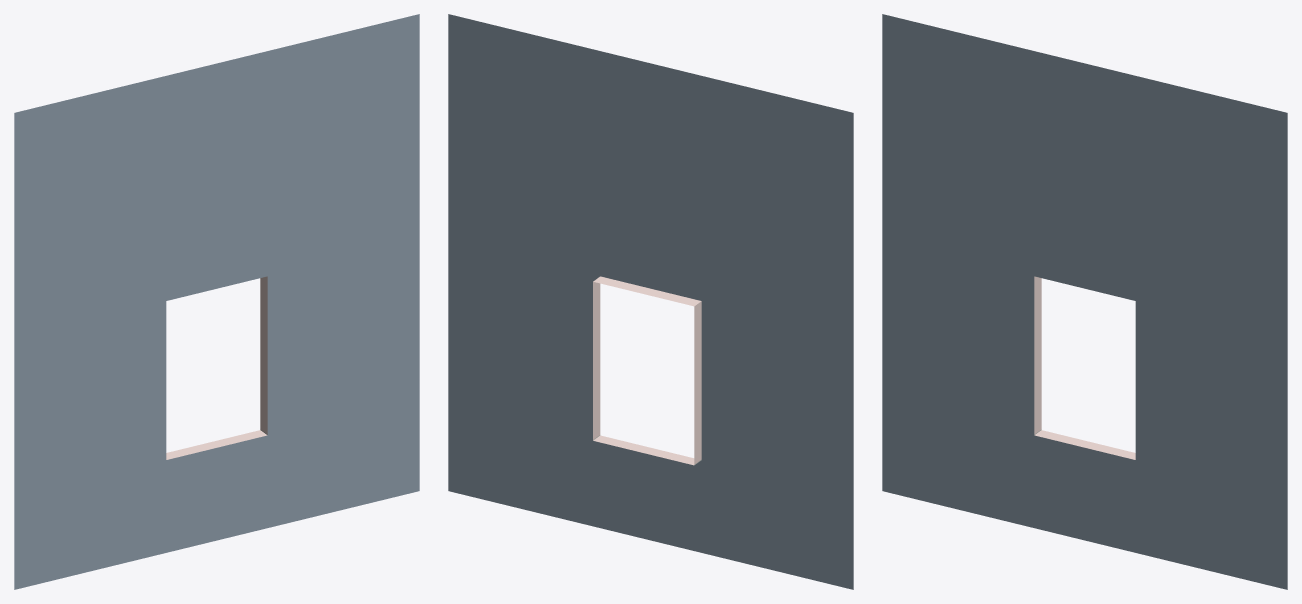
The model's file is Wall4x4_5Win1x1_5Vert.gltf.
3 renders of one model, left to right at view 1: azimuth 30°, elevation 25°; view 2: azimuth 150°, elevation 25°; view 3: azimuth 330°, elevation 25°, orthographic.
Parts seen in each view (by area): view 1: Wall4x4_5Win1x1_5VertShape; view 2: Wall4x4_5Win1x1_5VertShape; view 3: Wall4x4_5Win1x1_5VertShape.
Part boxes in pixels (left/top/right/bottom): Wall4x4_5Win1x1_5VertShape: left=14, top=14, right=419, bottom=589; Wall4x4_5Win1x1_5VertShape: left=448, top=14, right=853, bottom=589; Wall4x4_5Win1x1_5VertShape: left=882, top=14, right=1287, bottom=589.
Size of the model in its own units: 400 by 450 by 12.5.
1 material, 1 textured.
